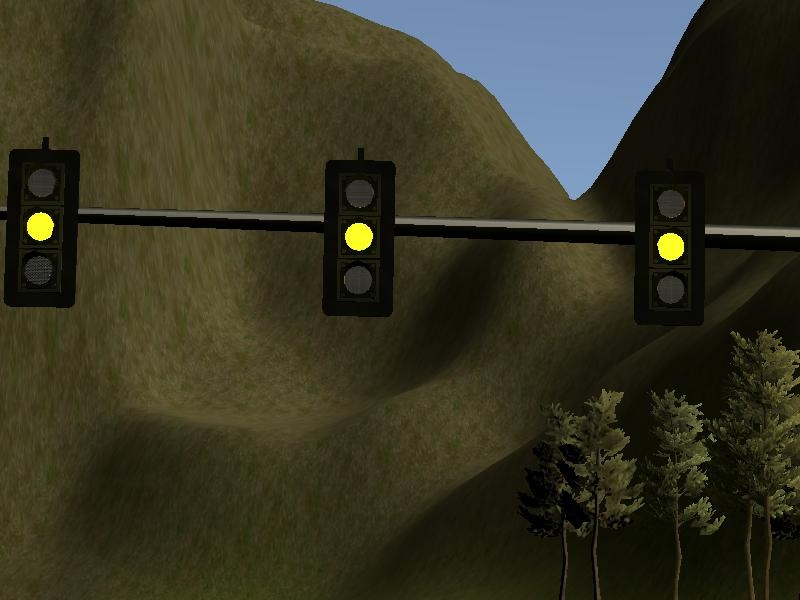YELLOW: (317, 158, 398, 317), (630, 167, 711, 326), (1, 150, 80, 309)
